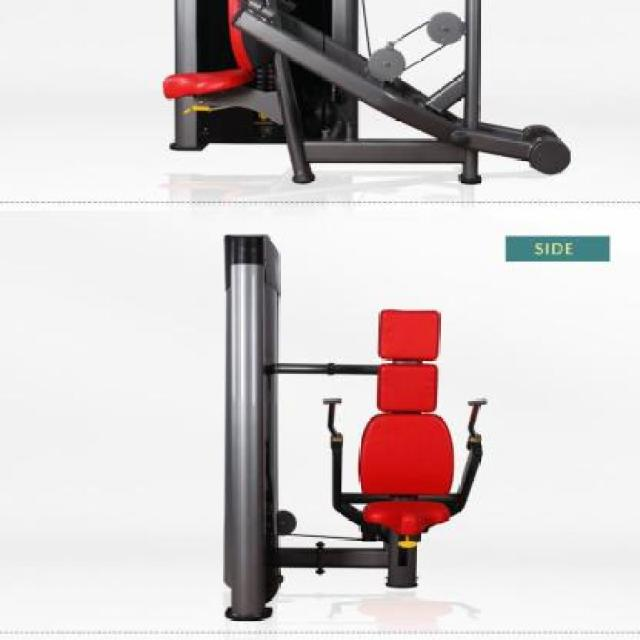seated dip machine: (225, 232, 489, 623)
